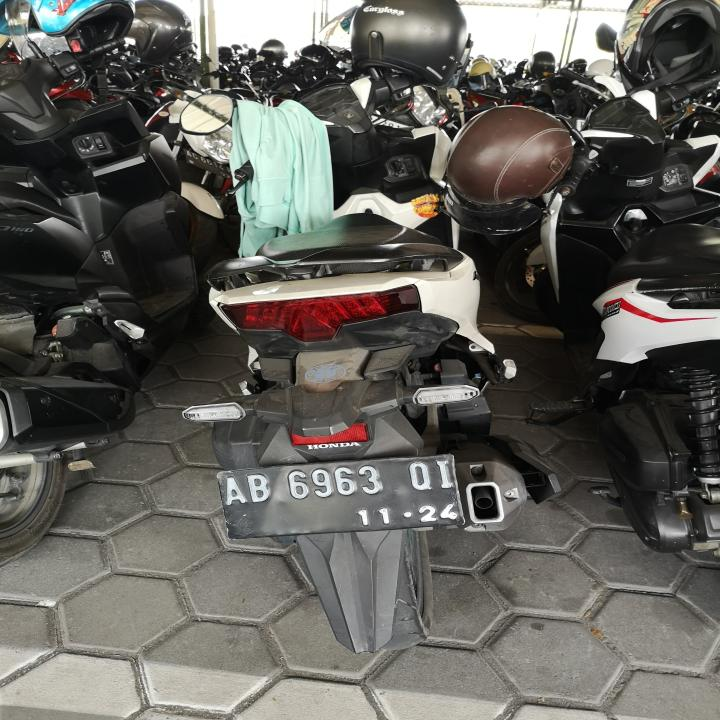plate: (215, 452, 463, 542)
